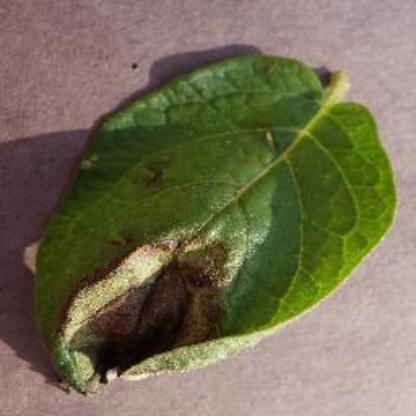Late-Blight: (27, 28, 409, 416)
